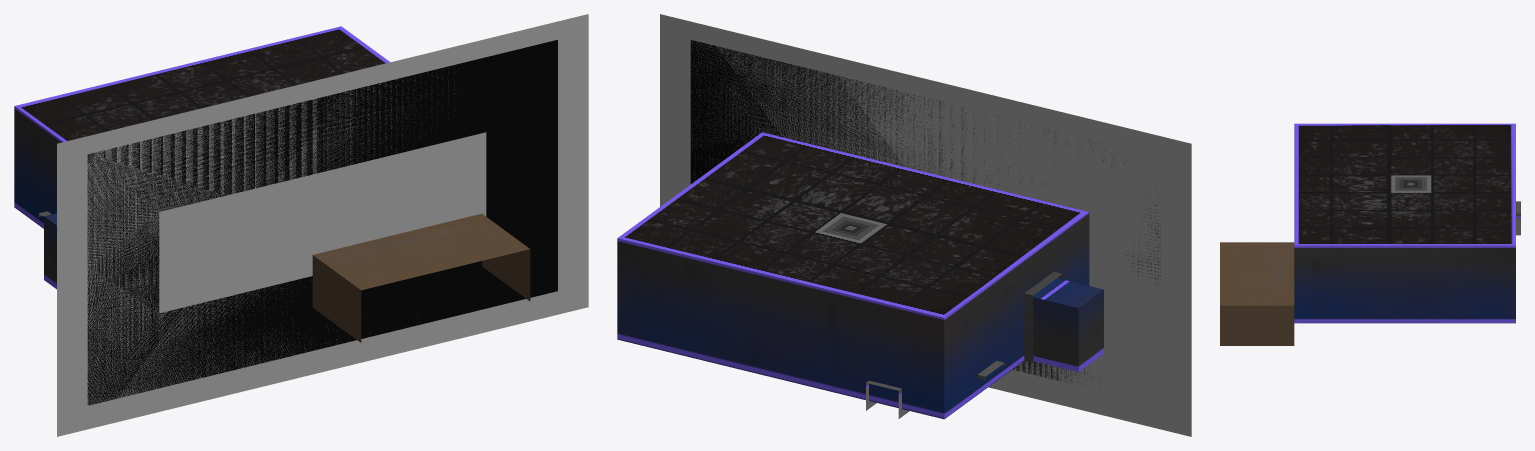
File: GameLobbyv3.fbx
3 views of the same model, side by side, from view 1: azimuth 30°, elevation 25°; view 2: azimuth 150°, elevation 25°; view 3: azimuth 270°, elevation 25° (orthographic). The views are drawn at different scales.
Visible parts, largest first — view 1: Room, Wall, CollectibleTable; view 2: Room, Wall, Door; view 3: Room, CollectibleTable.
Part boxes in pixels (bbox=[...]): Room: bbox=[14, 26, 557, 405]; Wall: bbox=[57, 14, 588, 436]; CollectibleTable: bbox=[312, 213, 530, 342]; Room: bbox=[617, 40, 1160, 419]; Wall: bbox=[660, 14, 1191, 436]; Door: bbox=[1024, 272, 1062, 362]; Room: bbox=[1294, 123, 1520, 323]; CollectibleTable: bbox=[1220, 242, 1294, 345].
Bounding box in the file's own units: 2156 × 1136 × 1380.
Materials: 2 (1 with a texture image).
